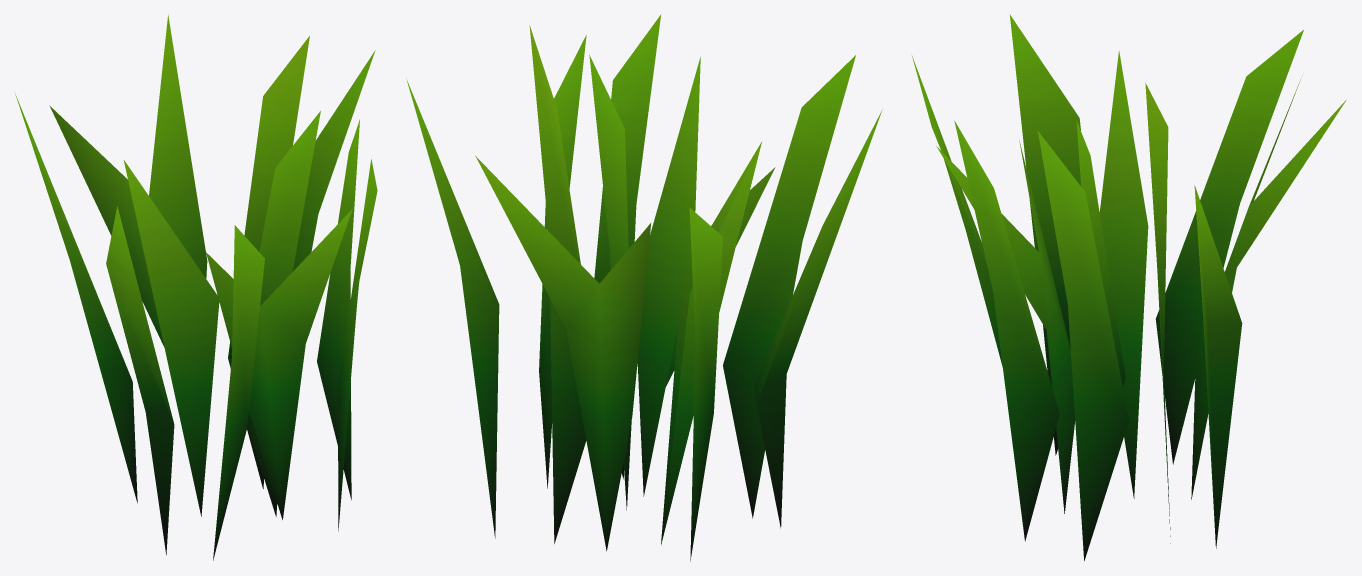
File: grass-2.glb
The picture shows the model from 3 angles, left to right: view 1: azimuth 30°, elevation 25°; view 2: azimuth 150°, elevation 25°; view 3: azimuth 270°, elevation 25°; orthographic projection. The views are drawn at different scales.
Parts seen in each view (by area): view 1: Grass_Wide_Short; view 2: Grass_Wide_Short; view 3: Grass_Wide_Short.
Boxes of the visible parts, box(x1,y1,x2,y2) form: Grass_Wide_Short: box(15, 14, 377, 560); Grass_Wide_Short: box(406, 14, 882, 561); Grass_Wide_Short: box(912, 14, 1346, 560).
Size of the model in its own units: 0.1987 by 0.25 by 0.2054.
1 material, 1 textured.
